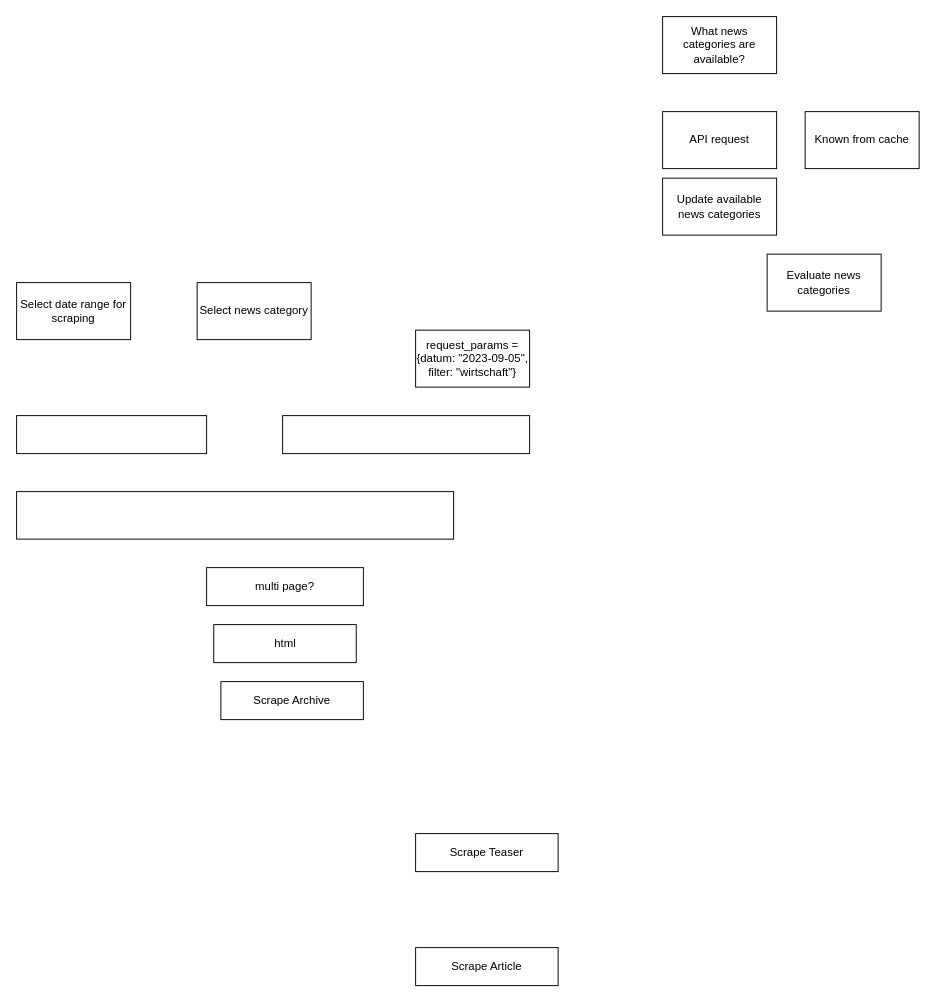
This 936x1002 diagram has some shape labels left out. Each missing label, with the box of its shape:
archiv?datum=2023-09-05&filter=wirtschaft: (282, 415, 530, 454)
https://www.tagesschau.de: (16, 415, 207, 454)
https://www.tagesschau.de/archiv?datum=2023-09-05&filter=wirtschaft: (16, 491, 454, 539)
